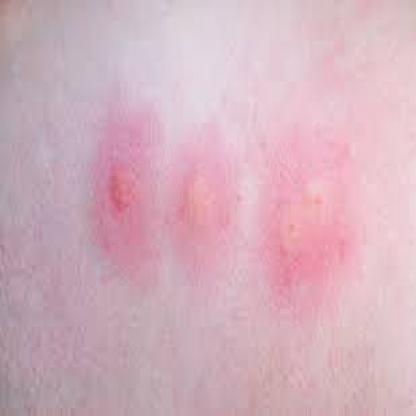Bed Bug: (262, 138, 348, 278), (89, 118, 156, 270), (167, 132, 234, 270)
